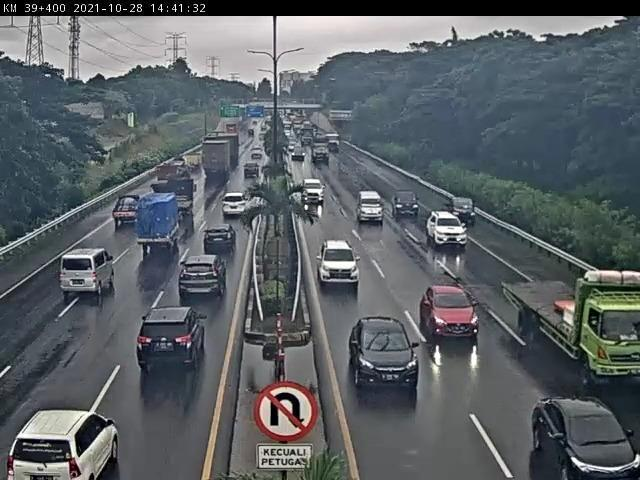car: (531, 397, 640, 480), (9, 409, 122, 480), (349, 316, 421, 390), (136, 308, 207, 375), (422, 286, 481, 344), (60, 250, 115, 297), (317, 240, 361, 288), (179, 255, 227, 299), (426, 211, 469, 249), (113, 193, 143, 227), (204, 225, 239, 254), (443, 197, 477, 226), (358, 192, 384, 223), (392, 191, 420, 219), (222, 194, 249, 217), (302, 179, 325, 204)
truck: (502, 269, 640, 385), (138, 192, 181, 252), (159, 179, 196, 225), (152, 165, 179, 193)
